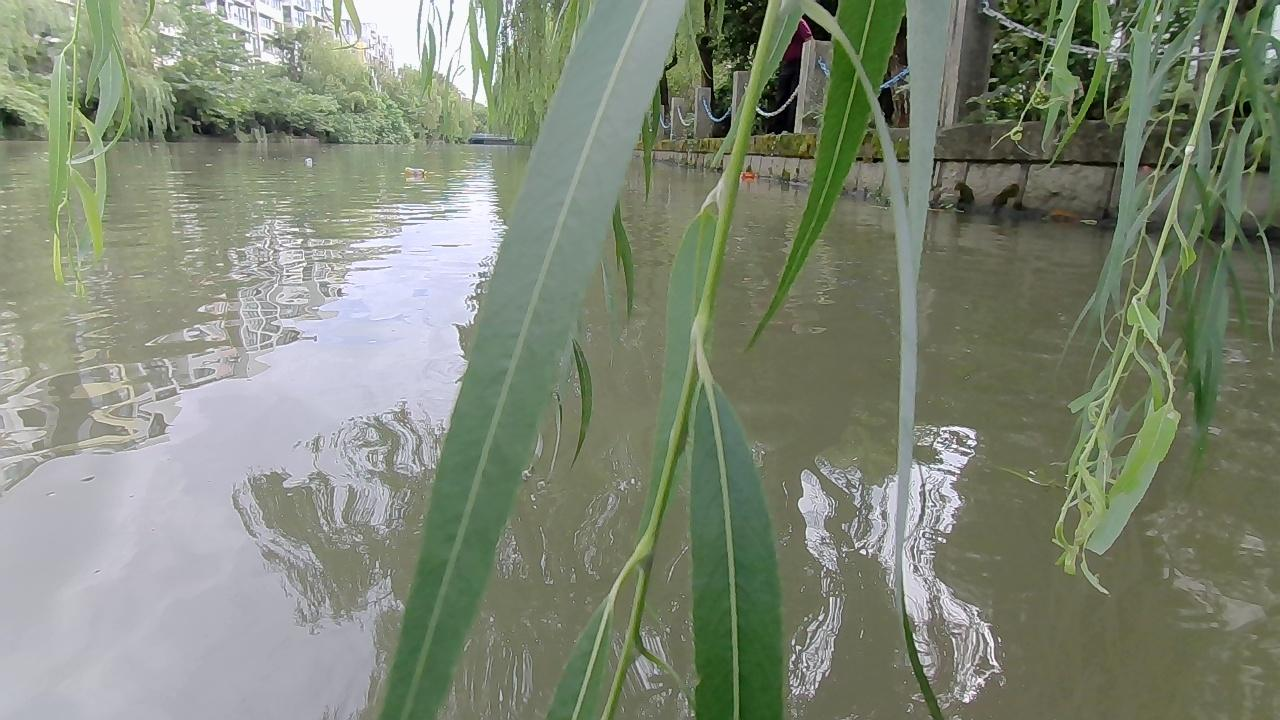bottle: (403, 163, 426, 185), (735, 171, 757, 182), (301, 157, 314, 171)
